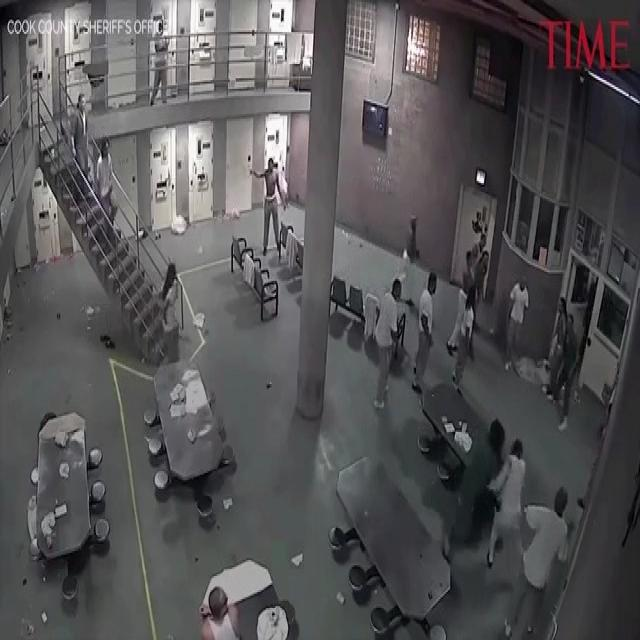fight: (539, 250, 584, 444)
